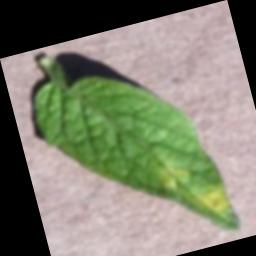Leaf_Mold: (186, 178, 234, 220)
